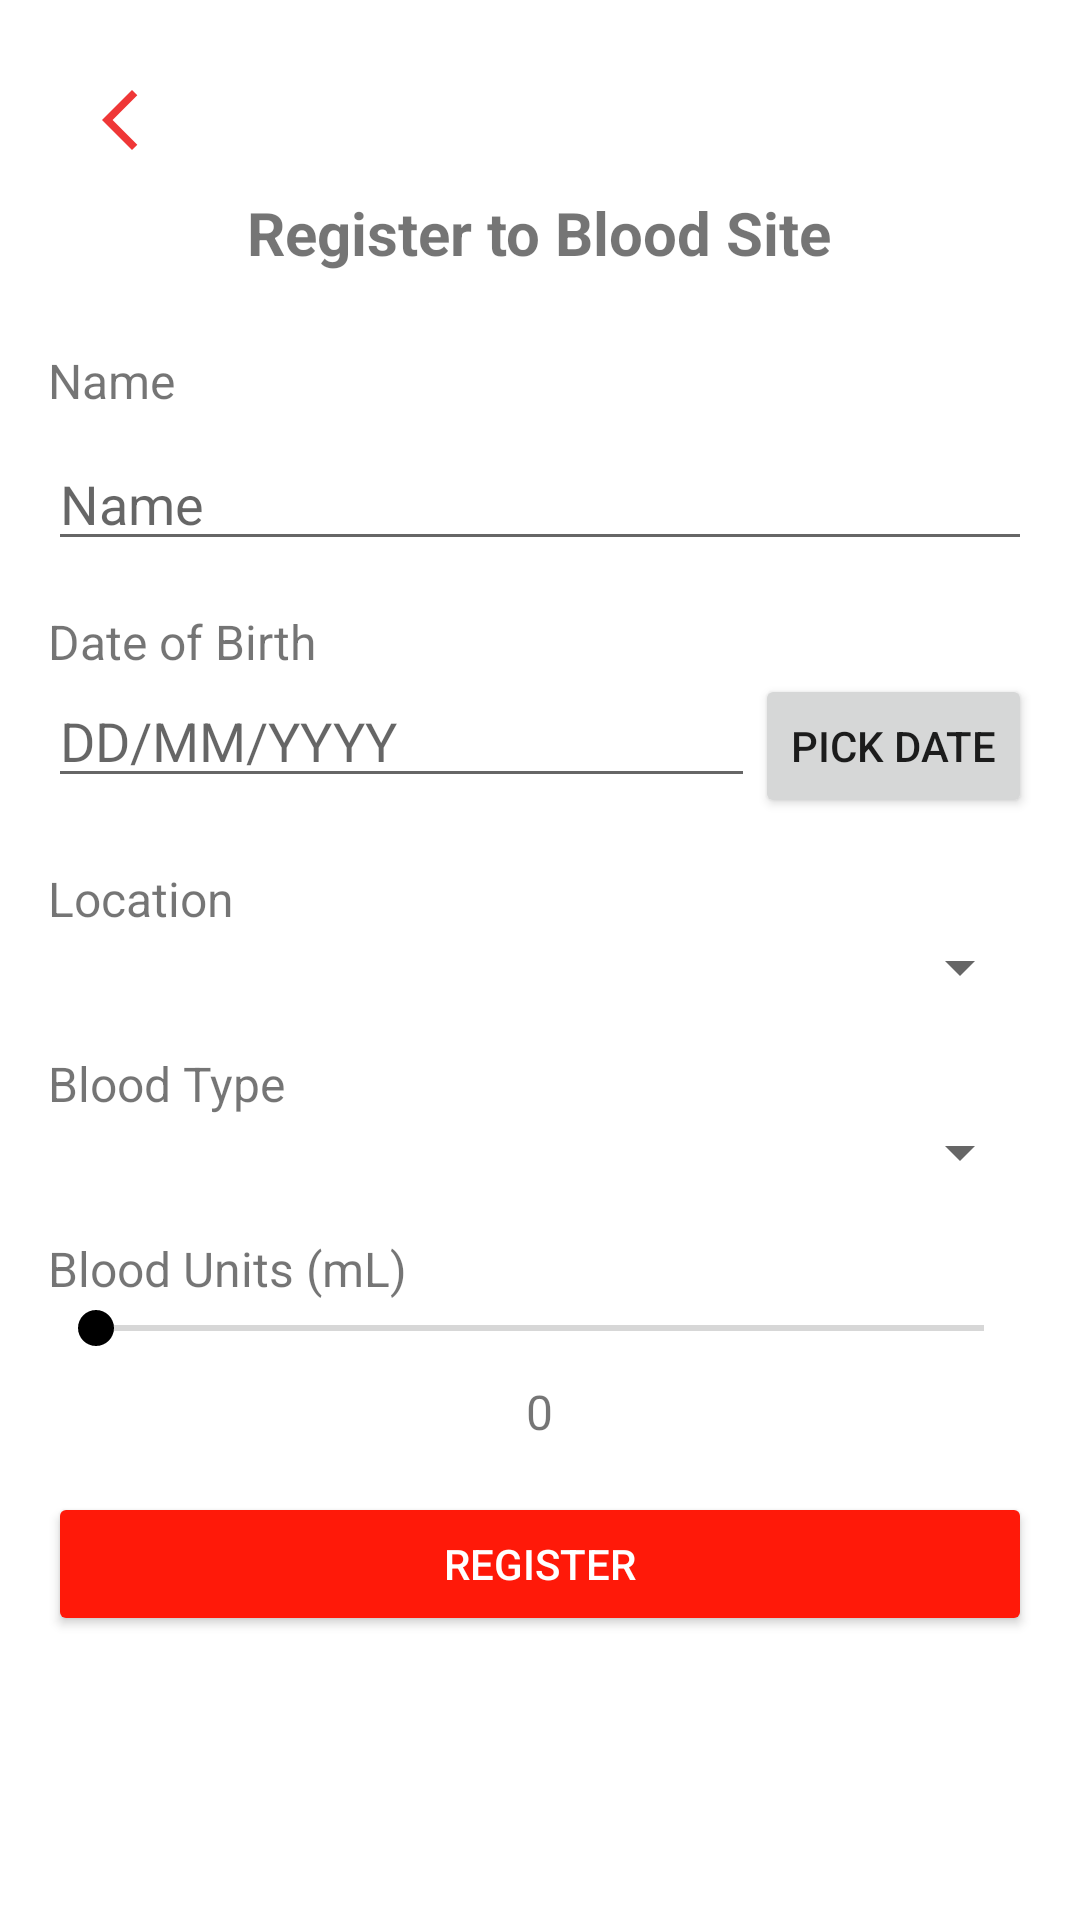

Locate icon controls on the screen. Image size 1080 x 1920, boxes as (x1, y1, x2, y2).
Back: (102, 90, 137, 150)
